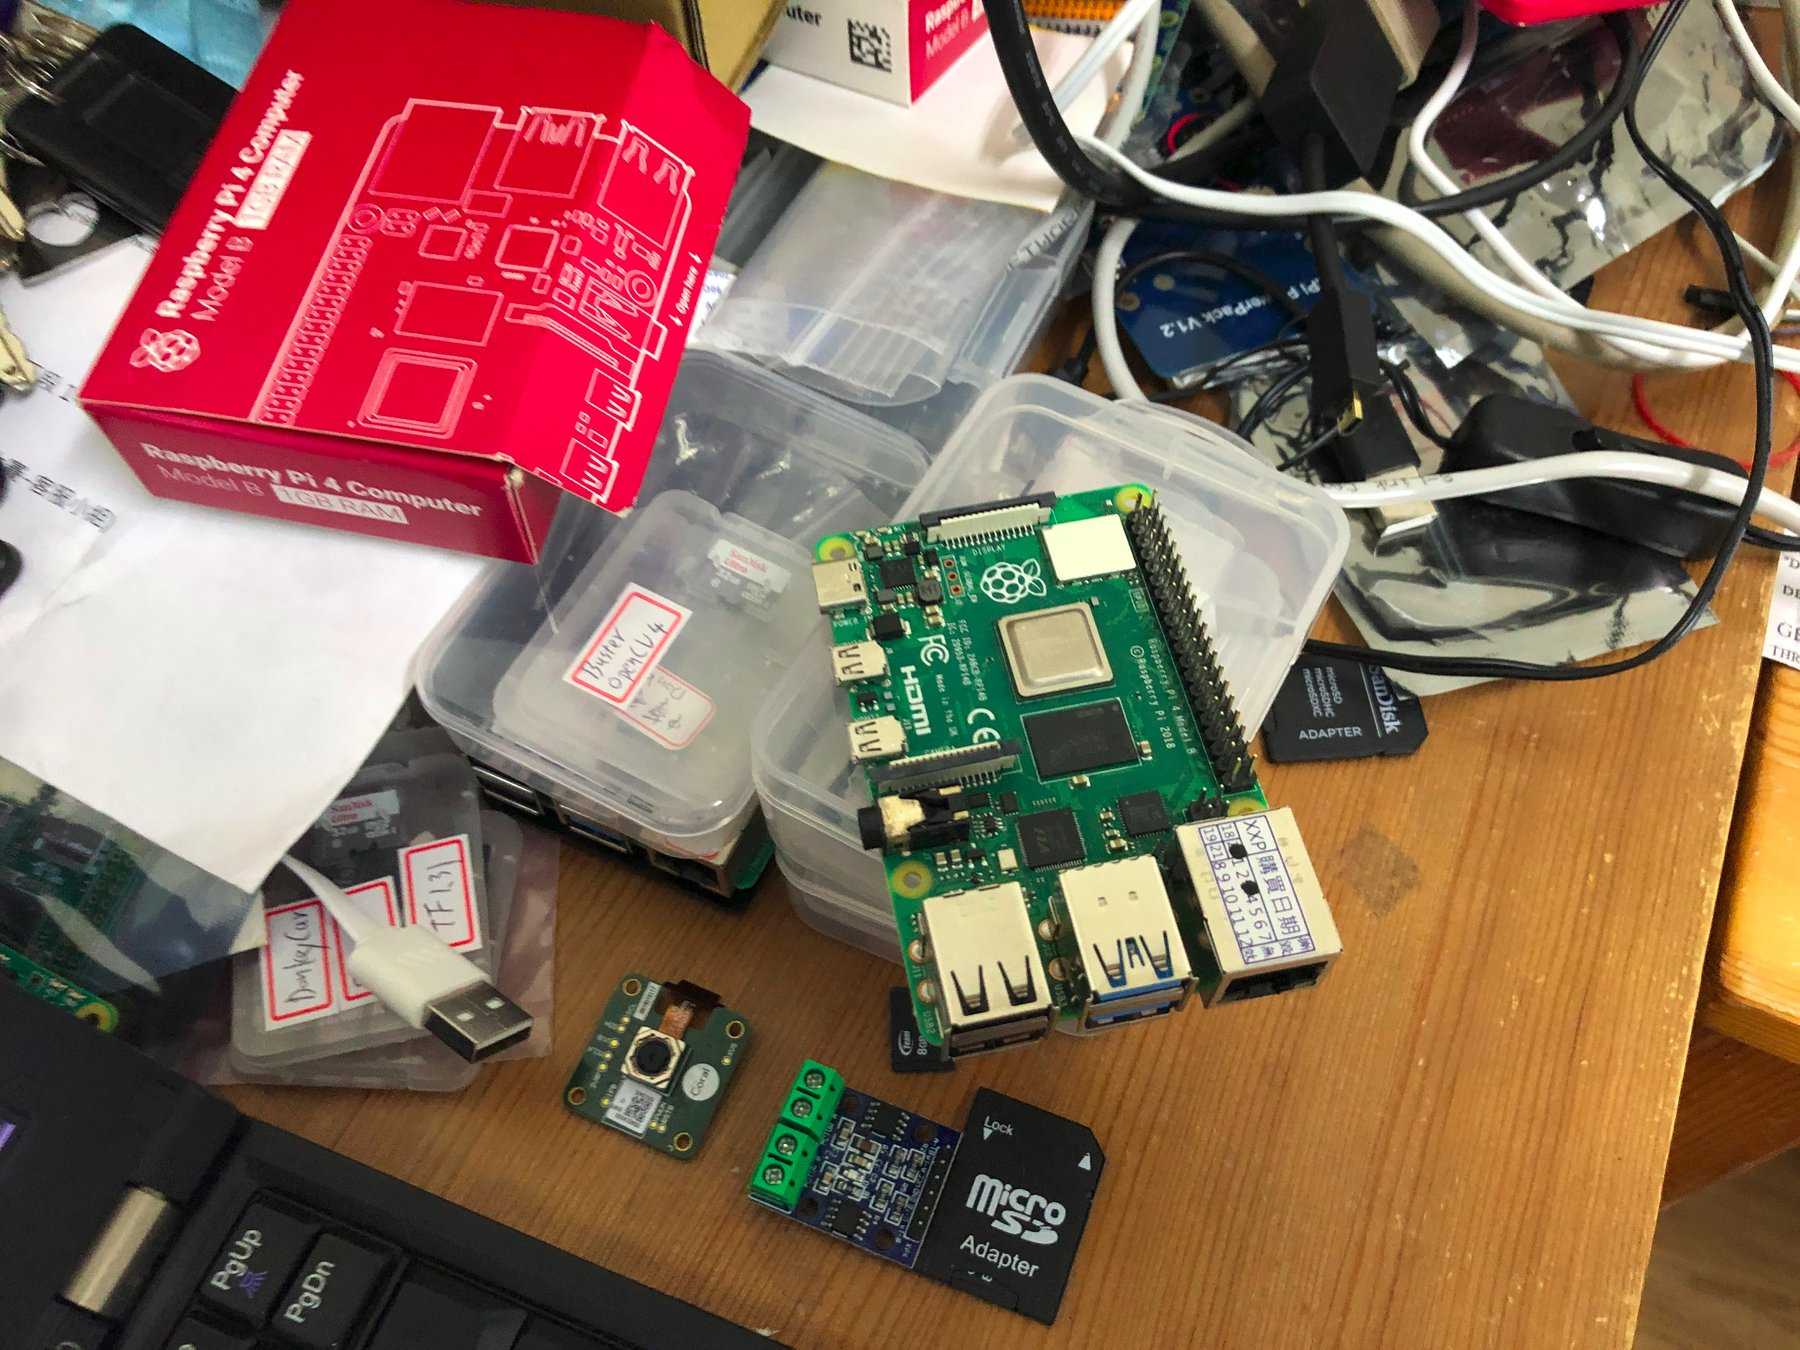pi: (802, 474, 1352, 1064)
